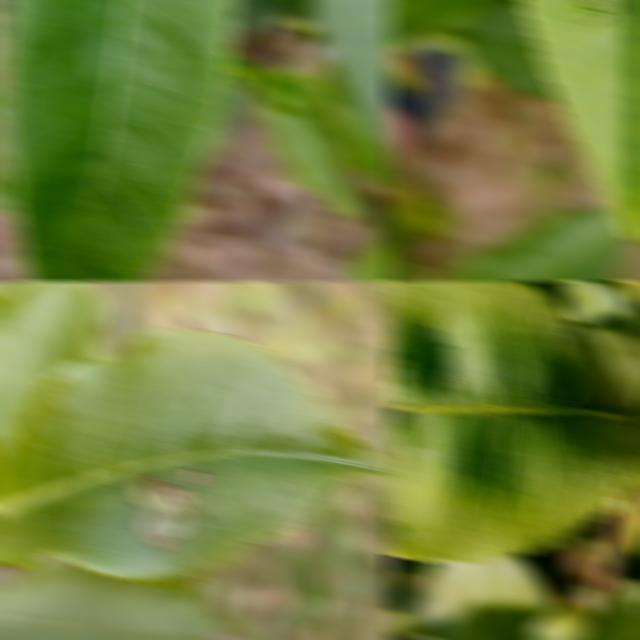Leaf: (0, 328, 394, 583), (386, 280, 640, 561), (0, 0, 238, 282), (518, 0, 640, 241), (0, 280, 106, 456), (0, 561, 221, 640), (253, 67, 362, 216), (308, 0, 394, 176), (443, 206, 631, 282)
